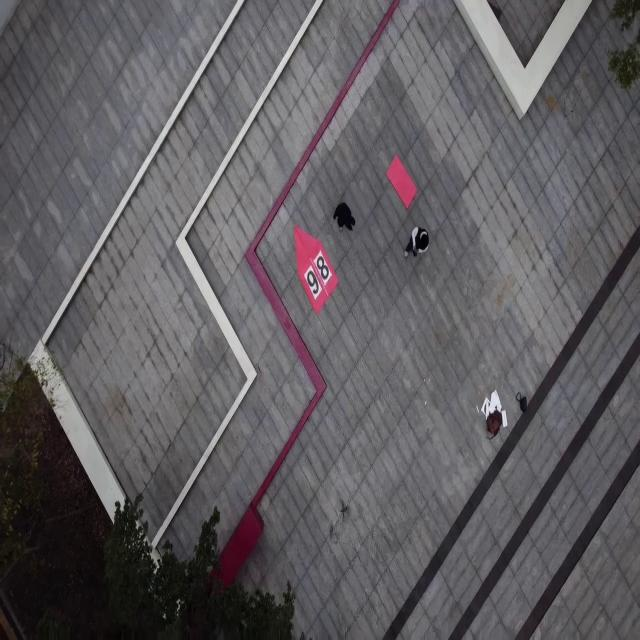-sign-: (293, 224, 339, 315), (385, 153, 418, 211)
